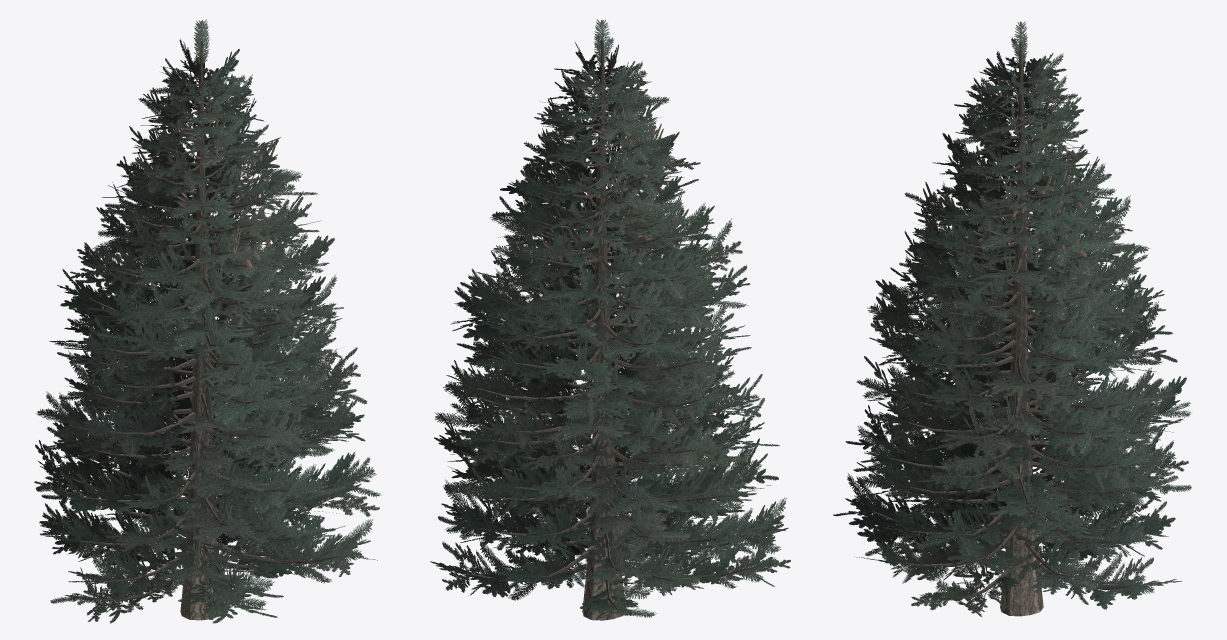
The model's file is pinsapo.glb.
3 views of the same model, side by side, from view 1: azimuth 30°, elevation 25°; view 2: azimuth 150°, elevation 25°; view 3: azimuth 270°, elevation 25° (orthographic).
Visible parts, largest first — view 1: PS_Copa_Ramitas, PS_Tronco_Ramas; view 2: PS_Copa_Ramitas, PS_Tronco_Ramas; view 3: PS_Copa_Ramitas, PS_Tronco_Ramas.
Boxes of the visible parts, left/top/right/bottom form: PS_Copa_Ramitas: left=34, top=19, right=381, bottom=623; PS_Tronco_Ramas: left=61, top=41, right=341, bottom=620; PS_Copa_Ramitas: left=430, top=19, right=790, bottom=618; PS_Tronco_Ramas: left=461, top=40, right=757, bottom=620; PS_Copa_Ramitas: left=833, top=21, right=1191, bottom=616; PS_Tronco_Ramas: left=872, top=41, right=1153, bottom=616.
Size of the model in its own units: 10.99 by 19 by 11.28.
2 materials, 2 textured.
